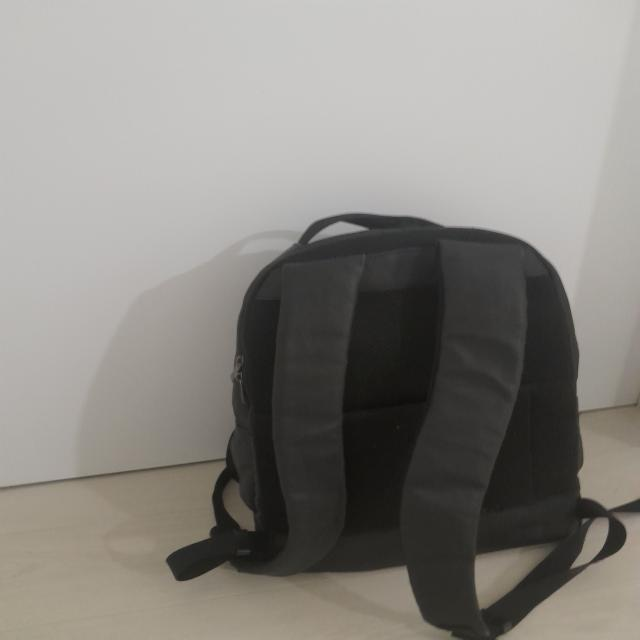backpack: (170, 214, 640, 640)
